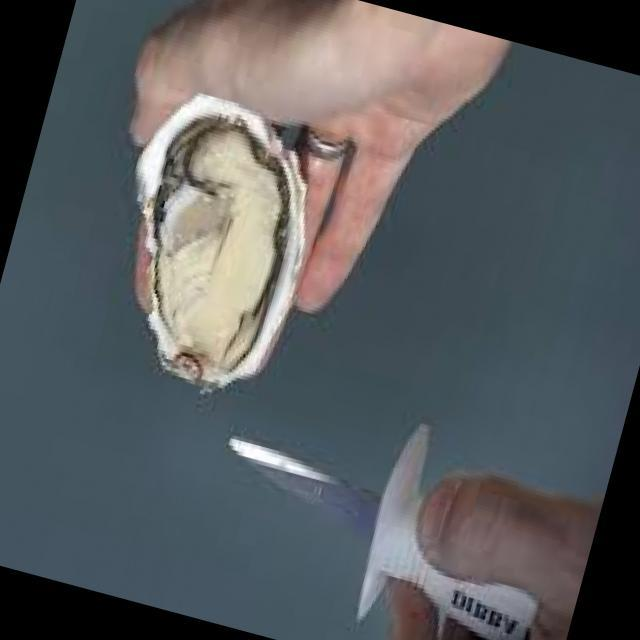Oyster-Open: (132, 92, 308, 390)
